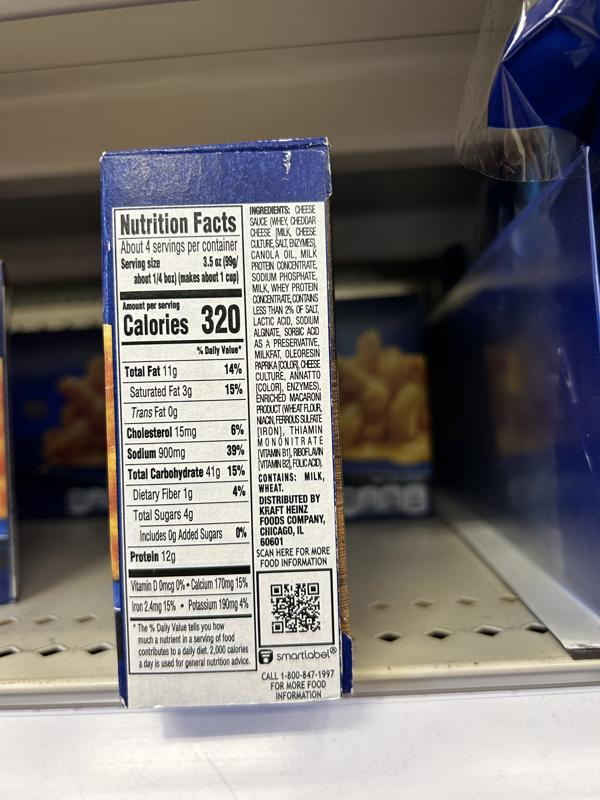ingredients: (246, 203, 325, 471)
